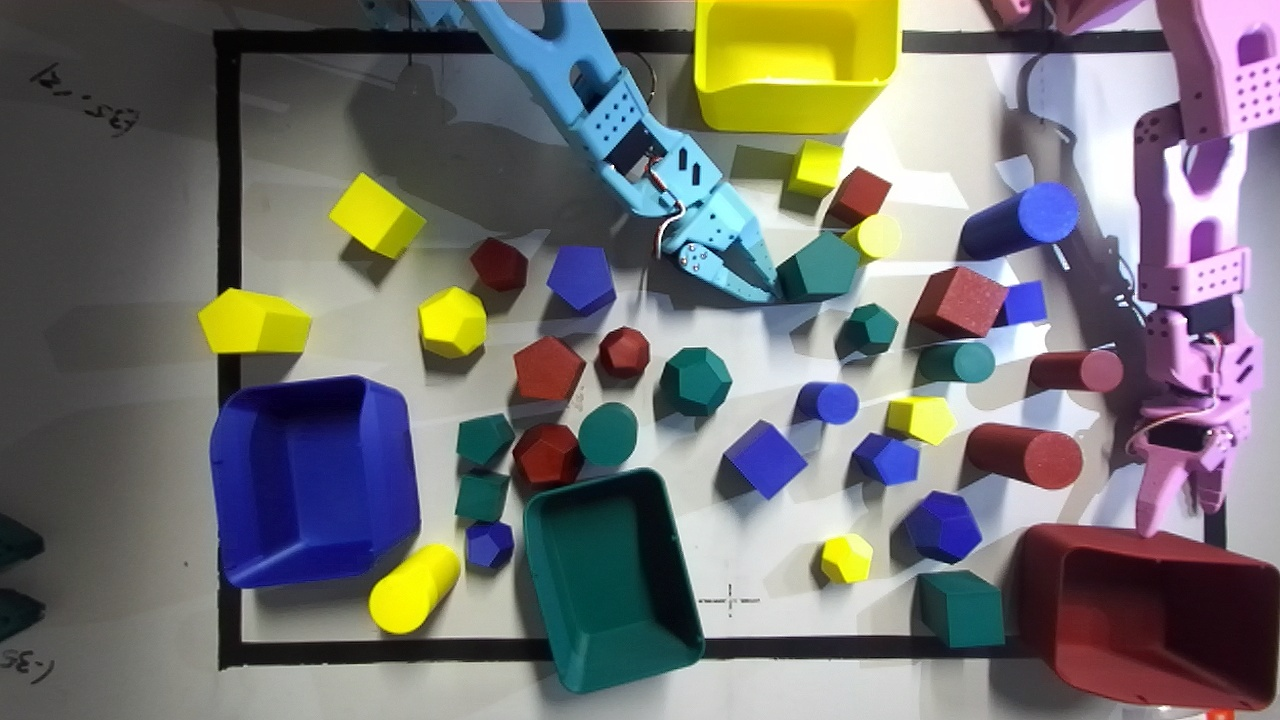bin: (1019, 524, 1279, 710), (210, 375, 419, 588), (525, 470, 703, 692), (694, 0, 900, 133)
cube: (329, 172, 426, 258), (911, 266, 1007, 338), (917, 570, 1004, 647), (724, 420, 806, 499), (825, 167, 890, 228), (786, 139, 842, 196), (455, 469, 509, 521), (995, 280, 1046, 327)
cylinder: (960, 182, 1078, 260), (369, 543, 460, 634), (965, 422, 1082, 489), (1028, 348, 1123, 392), (578, 402, 637, 466), (917, 341, 994, 382), (841, 214, 902, 259), (797, 382, 858, 424)
dodecahedron: (903, 491, 982, 563), (656, 347, 731, 418), (417, 287, 486, 357), (512, 424, 582, 486), (835, 303, 897, 363), (597, 327, 649, 377), (820, 533, 872, 582), (466, 521, 513, 569)
hexagonal: (776, 231, 859, 301), (546, 246, 616, 316), (513, 336, 585, 400), (851, 432, 919, 485), (886, 396, 956, 444), (470, 237, 528, 291), (456, 414, 514, 467)
